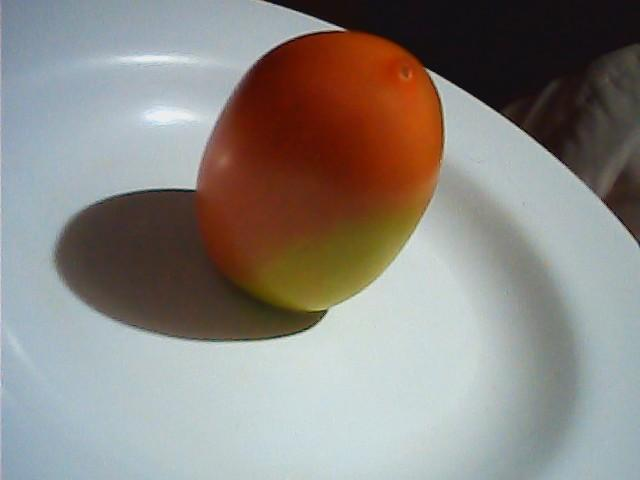verde: (194, 32, 445, 313)
